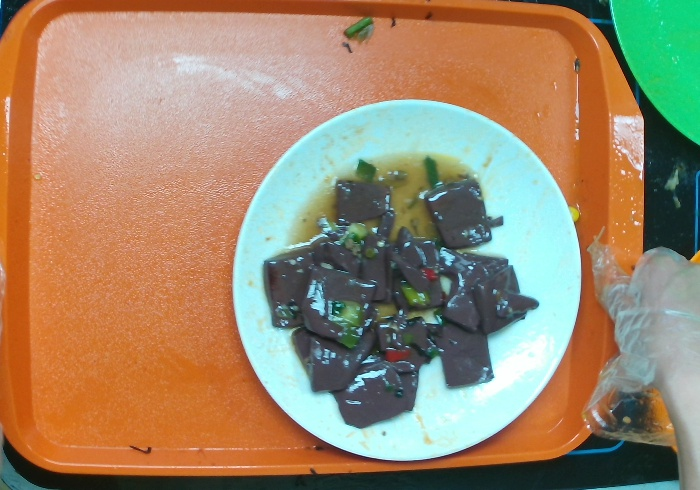HZYJPL-Bai_Se_Yuan_Pan: (219, 95, 592, 464)
